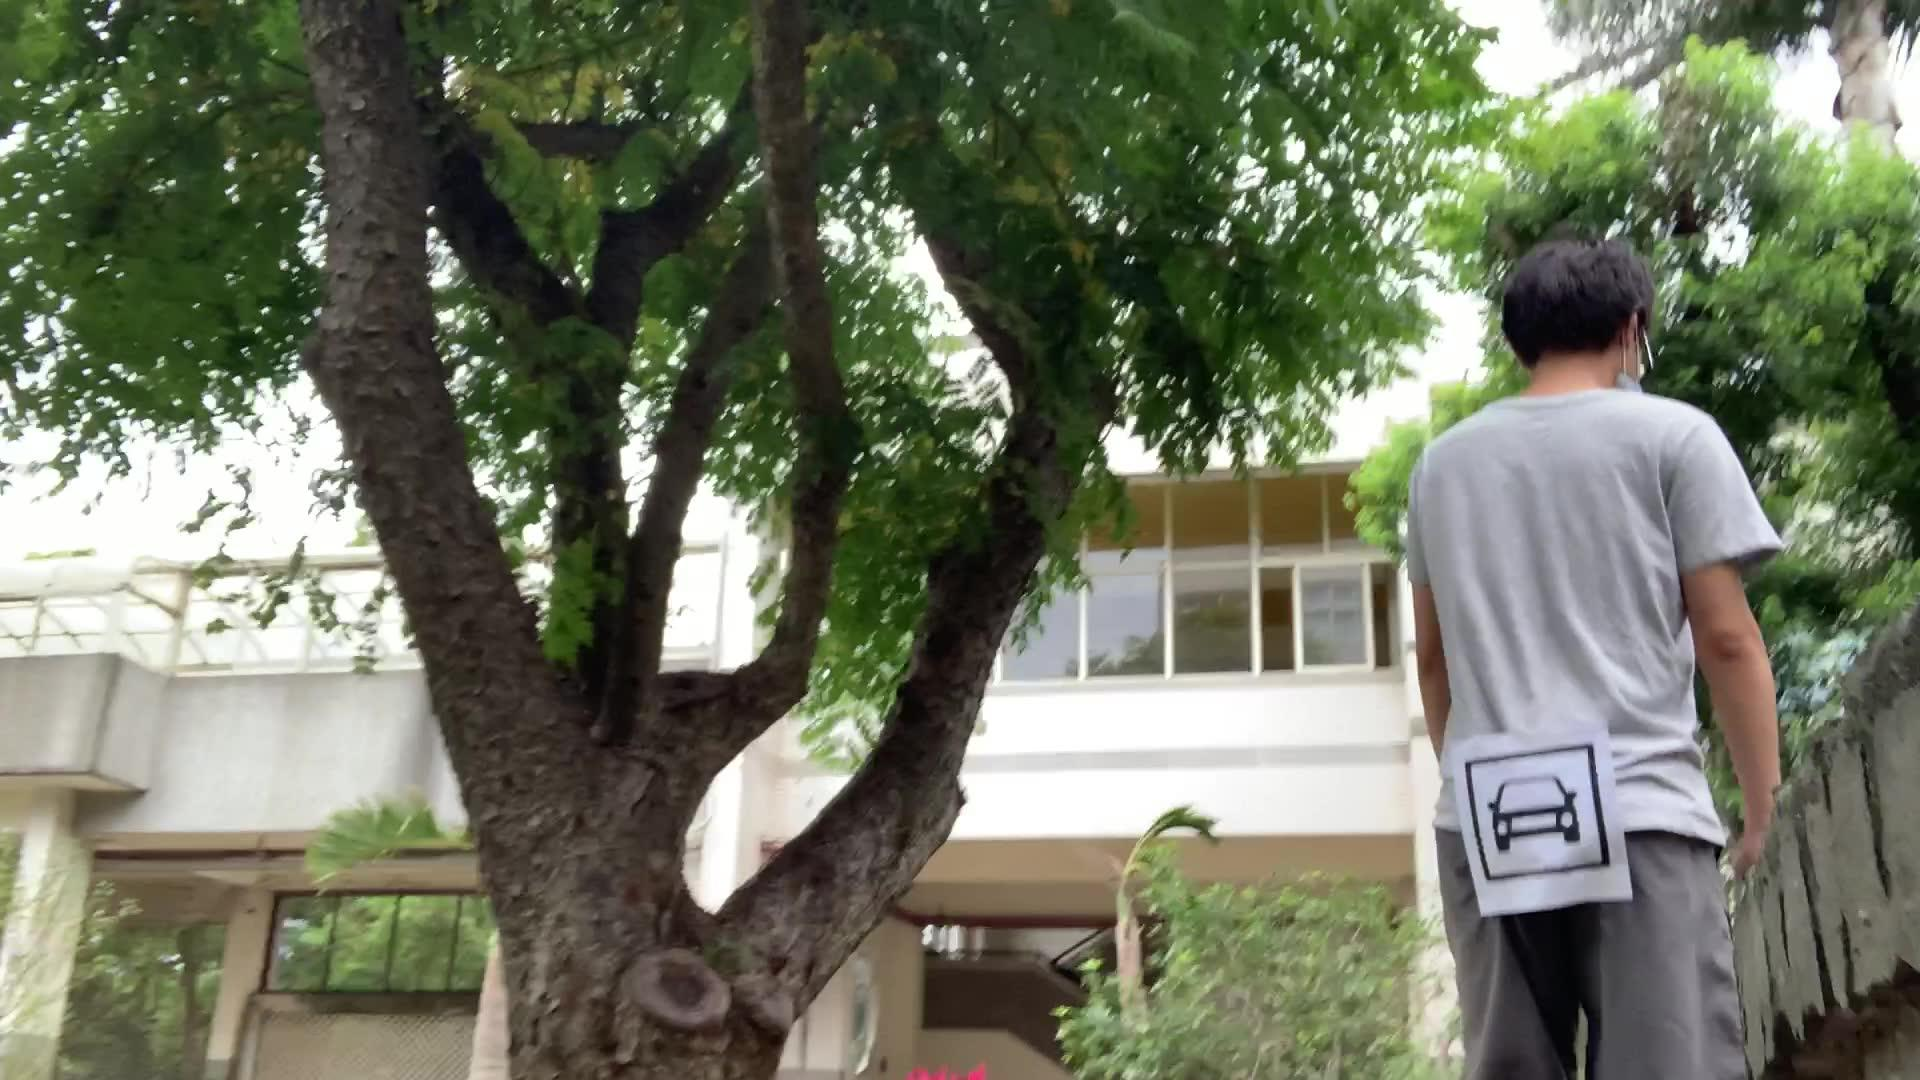car_img: (1465, 744, 1611, 881)
